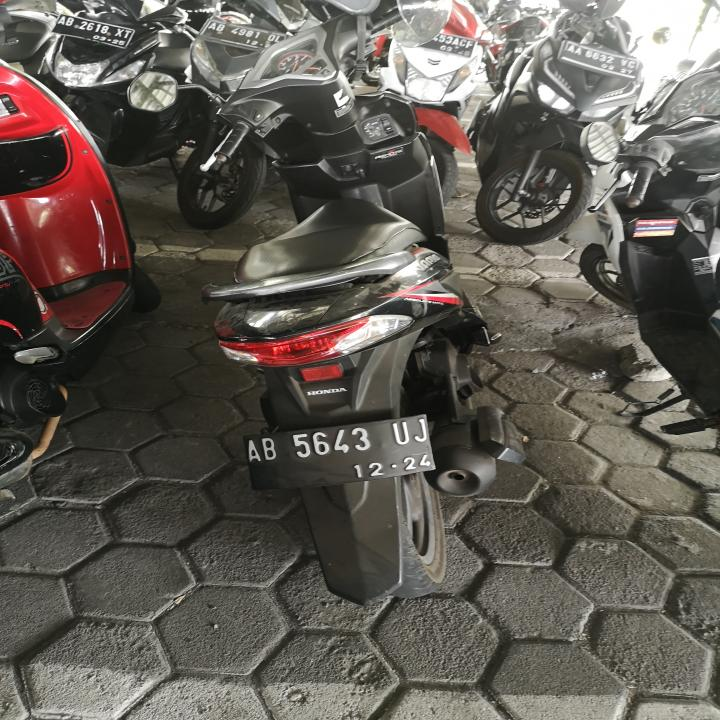plate: (243, 410, 436, 496), (557, 39, 639, 79), (50, 14, 136, 51), (198, 18, 288, 52), (417, 33, 479, 59)
